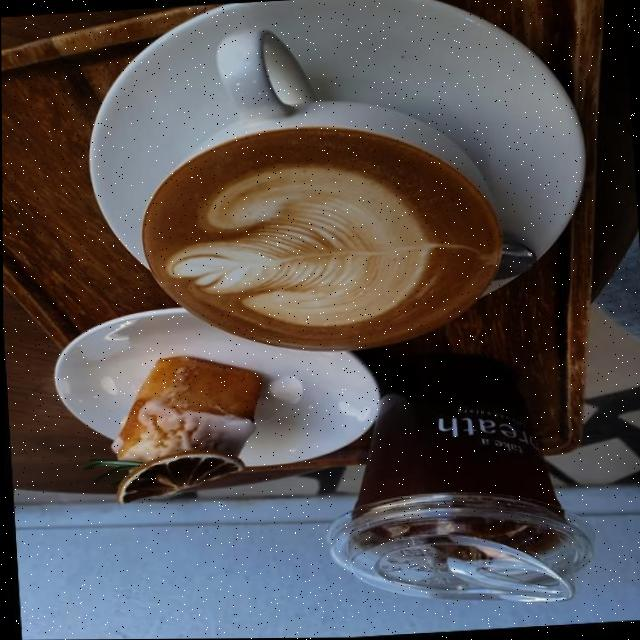cup: (315, 321, 608, 617)
